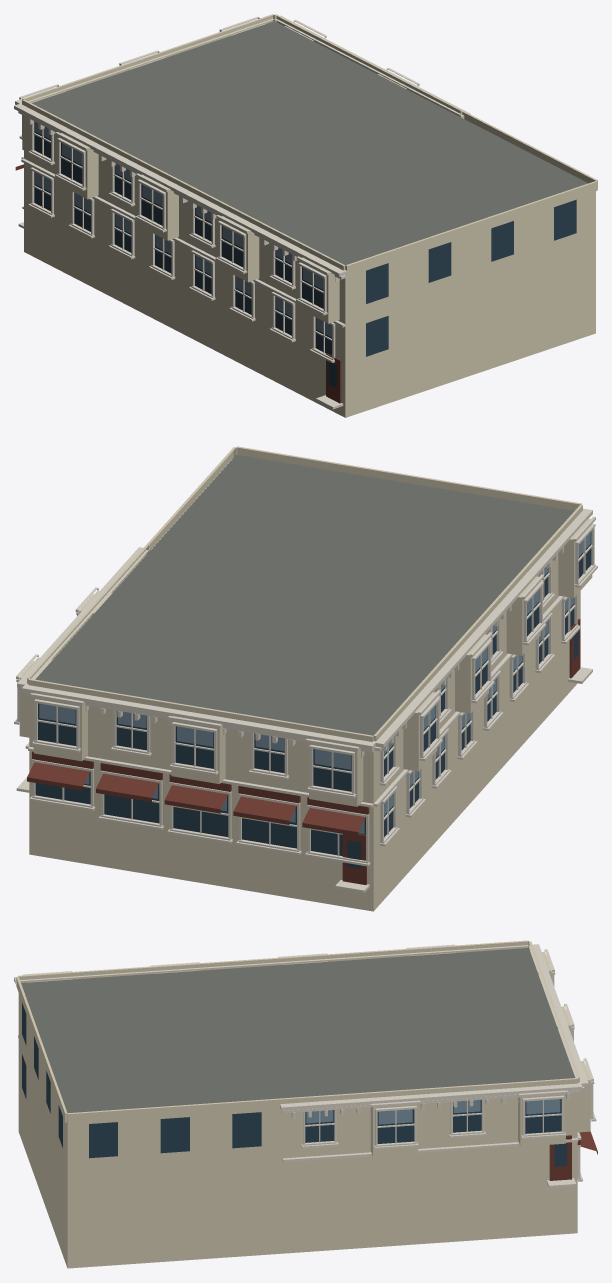
3 renders of one model, top to bottom at view 1: azimuth 30°, elevation 25°; view 2: azimuth 150°, elevation 25°; view 3: azimuth 270°, elevation 25°, orthographic. The views are drawn at different scales.
Parts seen in each view (by area): view 1: Footprint 0 / surface 1, Footprint 0 / surface 2, Cornices and window frames, Facade bay volumes, Inset glazing, Sky reflection panels, Storefronts and doors; view 2: Footprint 0 / surface 1, Footprint 0 / surface 2, Cornices and window frames, Facade bay volumes, Inset glazing, Storefronts and doors, Sky reflection panels; view 3: Footprint 0 / surface 1, Footprint 0 / surface 2, Facade bay volumes, Cornices and window frames, Inset glazing, Sky reflection panels, Storefronts and doors.
Part boxes in pixels (x1,y1,x2,y2): Footprint 0 / surface 1: [32, 21, 588, 265]; Footprint 0 / surface 2: [24, 116, 595, 417]; Cornices and window frames: [14, 15, 470, 409]; Facade bay volumes: [22, 14, 597, 323]; Inset glazing: [34, 121, 576, 388]; Sky reflection panels: [35, 121, 331, 337]; Storefronts and doors: [15, 164, 341, 403]; Footprint 0 / surface 1: [35, 455, 574, 735]; Footprint 0 / surface 2: [29, 553, 580, 911]; Cornices and window frames: [14, 508, 597, 892]; Facade bay volumes: [19, 446, 592, 806]; Inset glazing: [35, 531, 591, 868]; Storefronts and doors: [27, 619, 580, 884]; Sky reflection panels: [39, 532, 590, 834]; Footprint 0 / surface 1: [21, 948, 575, 1112]; Footprint 0 / surface 2: [18, 993, 577, 1268]; Facade bay volumes: [16, 940, 590, 1156]; Cornices and window frames: [14, 944, 596, 1187]; Inset glazing: [22, 1003, 567, 1166]; Sky reflection panels: [306, 1099, 560, 1124]; Storefronts and doors: [549, 1131, 597, 1180].
Bounding box in the file's own units: 20.54 × 8.39 × 28.57.
